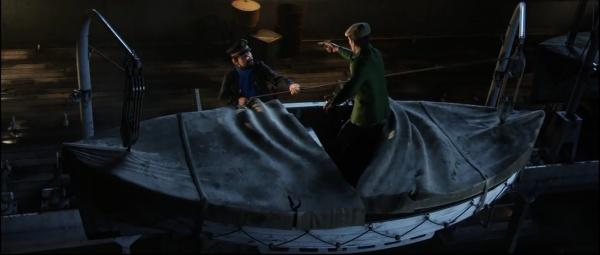Gun: (318, 39, 332, 46)
